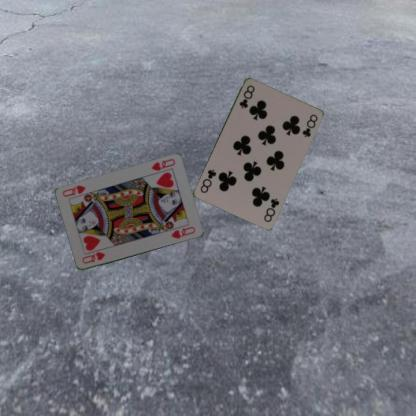8c: (236, 82, 256, 109), (261, 196, 280, 223)
Qh: (79, 249, 106, 266), (149, 156, 176, 172)
